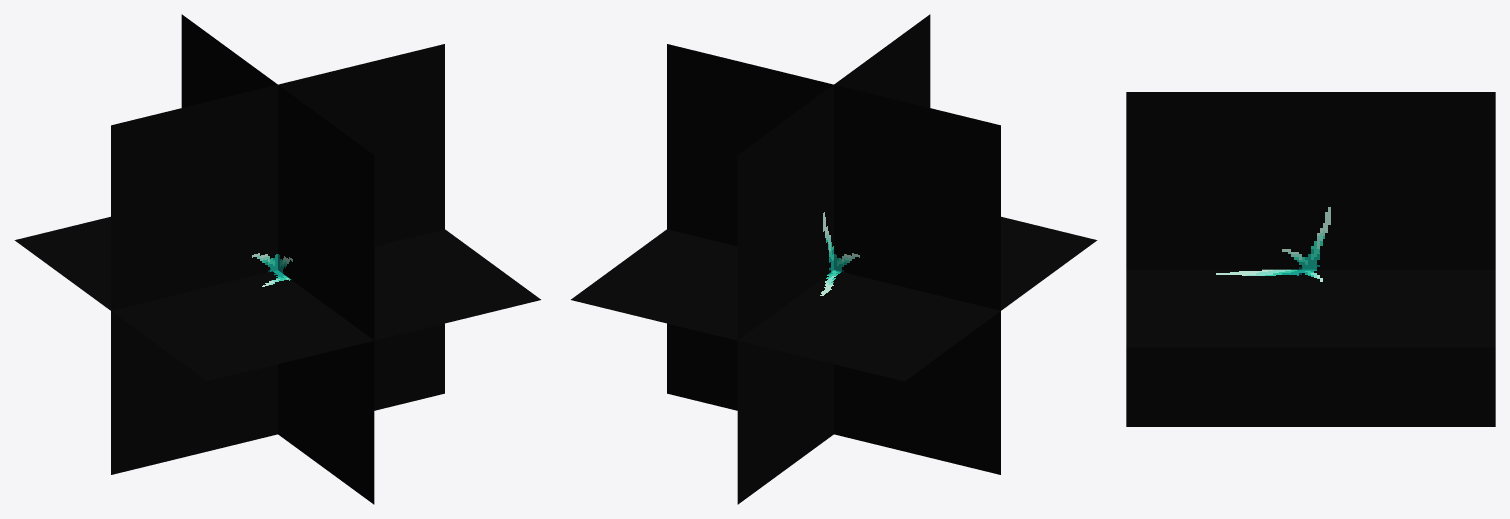
The model's file is vfx_gale_dash_2.gltf.
3 views of the same model, side by side, from view 1: azimuth 30°, elevation 25°; view 2: azimuth 150°, elevation 25°; view 3: azimuth 270°, elevation 25° (orthographic). The views are drawn at different scales.
Visible parts, largest first — view 1: cube (×3); view 2: cube (×3); view 3: cube (×2).
Part boxes in pixels (left/top/right/bottom): cube (×3): left=14, top=14, right=540, bottom=504; cube (×3): left=571, top=14, right=1097, bottom=504; cube (×2): left=1126, top=92, right=1495, bottom=426.
Size of the model in its own units: 2.06 by 2.06 by 2.06.
Materials: 1 (1 with a texture image).
